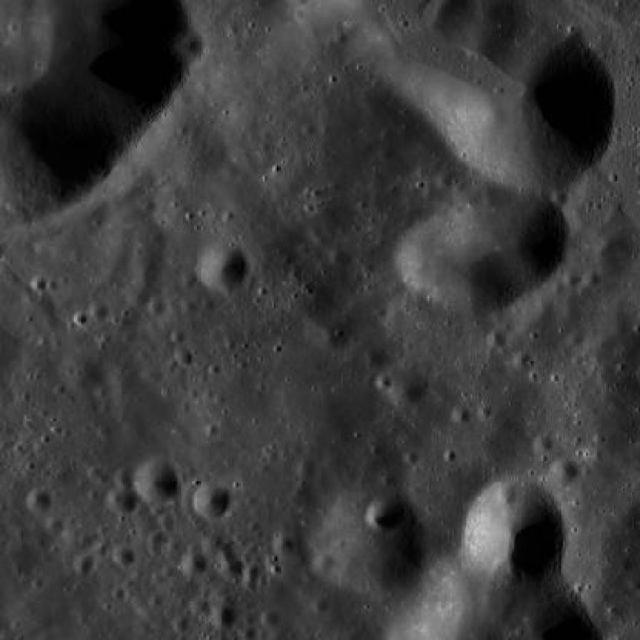crater: (0, 0, 185, 191), (438, 15, 616, 191), (445, 172, 567, 292), (406, 199, 525, 318), (314, 482, 428, 592), (462, 480, 568, 586), (144, 107, 222, 182), (566, 174, 626, 234), (584, 220, 640, 276), (198, 241, 248, 290), (306, 304, 354, 354), (136, 460, 182, 506), (152, 180, 198, 226), (61, 348, 104, 392), (384, 364, 426, 406), (514, 296, 556, 336), (67, 192, 104, 228), (194, 484, 229, 520), (475, 0, 517, 28), (106, 482, 139, 516), (369, 498, 402, 531), (108, 361, 141, 394), (130, 257, 162, 286), (134, 222, 164, 252), (434, 0, 474, 20), (549, 457, 577, 485), (181, 552, 207, 578), (126, 282, 152, 308), (176, 32, 202, 58), (212, 604, 237, 630), (219, 555, 244, 580), (6, 538, 31, 562), (26, 490, 52, 513), (104, 248, 128, 272), (112, 543, 136, 566), (364, 346, 388, 369), (273, 534, 295, 556), (594, 330, 616, 352), (312, 554, 334, 574), (496, 486, 516, 506), (191, 596, 211, 616), (74, 554, 94, 574), (294, 457, 314, 477), (260, 609, 280, 628), (218, 545, 237, 564), (534, 435, 554, 453), (330, 244, 348, 264), (513, 352, 532, 370), (487, 330, 505, 348), (452, 405, 470, 423), (562, 304, 580, 322), (115, 469, 134, 486), (0, 385, 14, 407), (244, 564, 261, 582), (149, 528, 166, 546), (89, 300, 106, 318), (175, 348, 192, 366), (46, 517, 63, 534), (98, 270, 115, 287), (436, 169, 453, 186), (30, 276, 47, 292), (180, 270, 196, 286), (180, 298, 196, 314), (584, 270, 600, 286), (611, 320, 627, 336), (241, 624, 256, 640), (150, 298, 164, 314)
